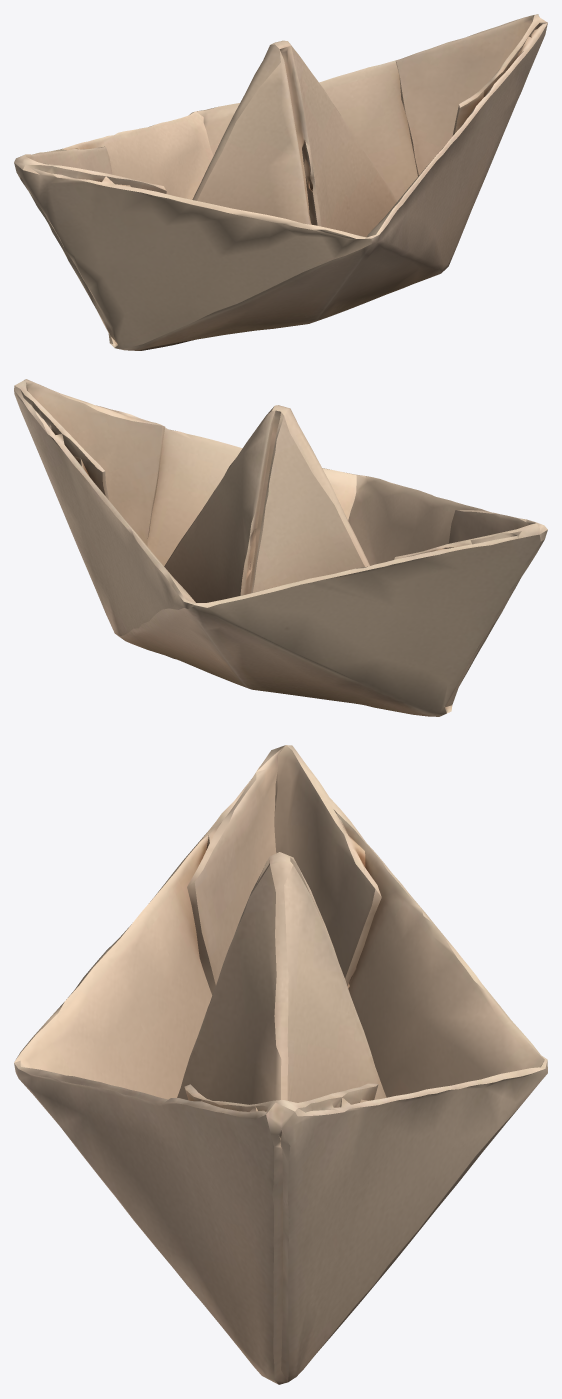
3 views of the same model, one above another, from view 1: azimuth 30°, elevation 25°; view 2: azimuth 150°, elevation 25°; view 3: azimuth 270°, elevation 25° (orthographic). The views are drawn at different scales.
Visible parts, largest first — view 1: world; view 2: world; view 3: world.
Boxes of the visible parts, x1,y1,x2,y2 form: world: (14, 14, 547, 350); world: (14, 379, 547, 716); world: (14, 745, 547, 1384).
Size of the model in its own units: 0.12 by 0.0603 by 0.0691.
Materials: 1 (1 with a texture image).
